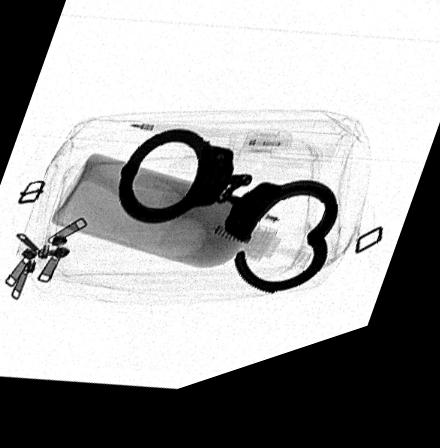HandCuffs: (116, 139, 337, 311)
